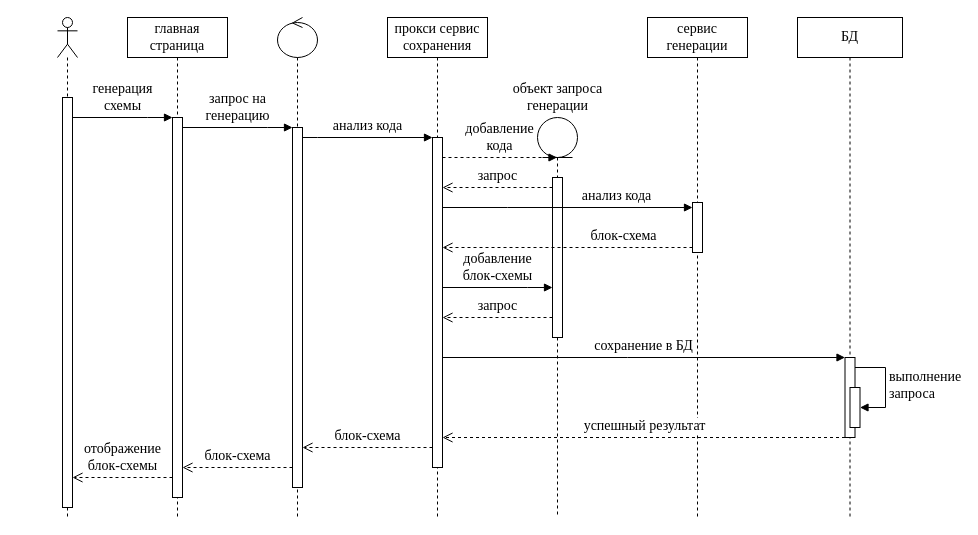
The diagram is 978 pixels wide and 535 high, and some of its shapes have lost their labels. The shapes that lost their labels are listed below. From the top down, each one's box as (x1, y1, x2, y2) in pixels, then its label:
(56, 16, 78, 518): Пользователь
(276, 16, 318, 518): контроллер страницы
